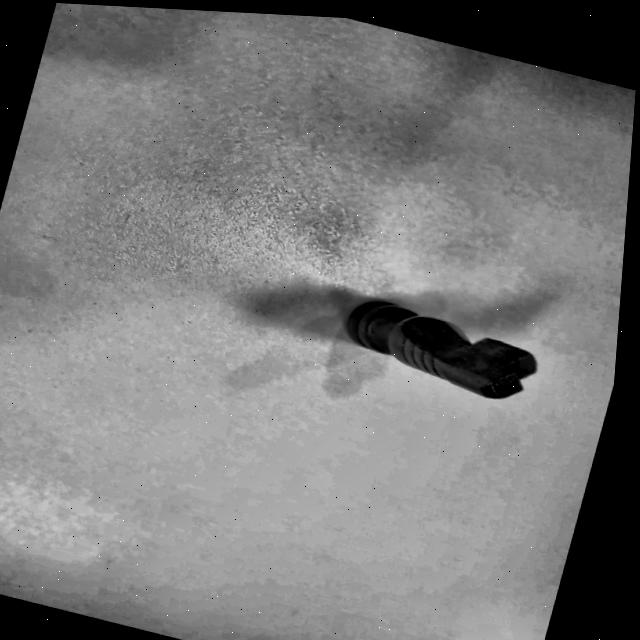black-knight: (315, 284, 559, 416)
